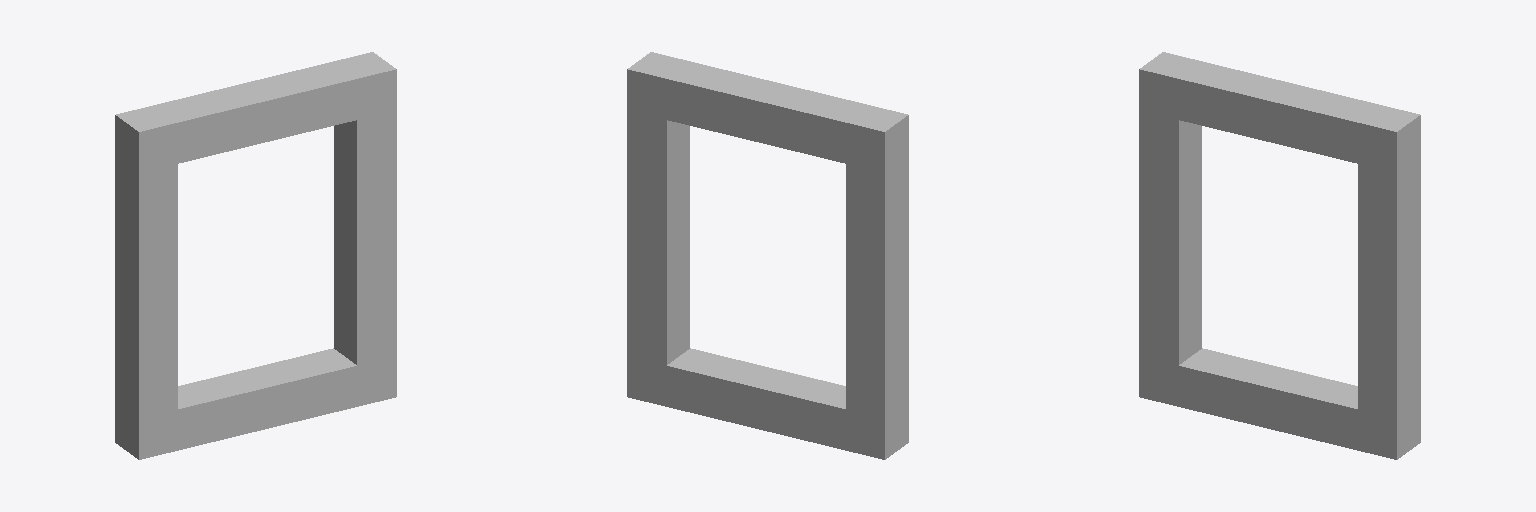
File: window-brown.obj
3 views of the same model, side by side, from view 1: azimuth 30°, elevation 25°; view 2: azimuth 150°, elevation 25°; view 3: azimuth 330°, elevation 25° (orthographic).
Visible parts, largest first — view 1: window-brown; view 2: window-brown; view 3: window-brown.
Boxes of the visible parts, <box> form: window-brown: <box>115,52,396,459</box>; window-brown: <box>627,52,908,459</box>; window-brown: <box>1139,52,1420,459</box>.
Size of the model in its own units: 0.3125 by 0.38 by 0.05.